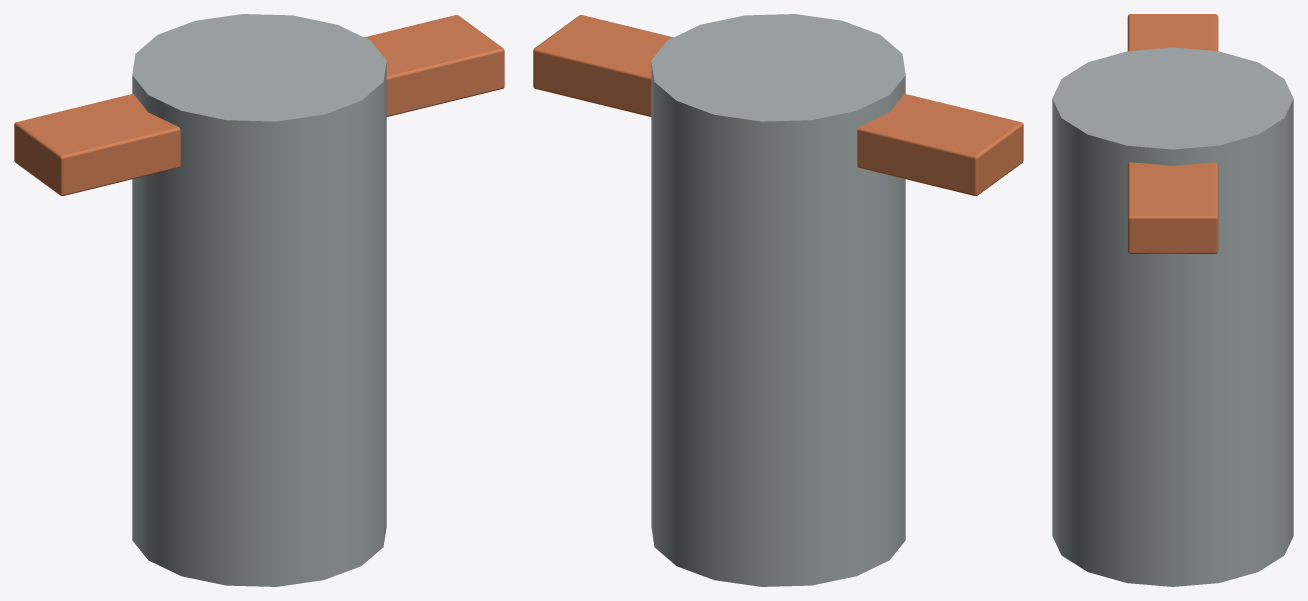
Rendered from scavengers-loot-library-ball-valve-09716dd6__2591.glb.
The picture shows the model from 3 angles, left to right: view 1: azimuth 30°, elevation 25°; view 2: azimuth 150°, elevation 25°; view 3: azimuth 270°, elevation 25°; orthographic projection. The views are drawn at different scales.
Parts seen in each view (by area): view 1: ball-valve, lever/signal; view 2: ball-valve, lever/signal; view 3: ball-valve, lever/signal.
Part boxes in pixels (<box>): ball-valve: <box>132,14,386,586</box>; lever/signal: <box>14,15,504,195</box>; ball-valve: <box>651,14,905,586</box>; lever/signal: <box>533,15,1023,195</box>; ball-valve: <box>1052,47,1293,586</box>; lever/signal: <box>1127,14,1218,253</box>.
Size of the model in its own units: 0.08 by 0.08 by 0.04.
